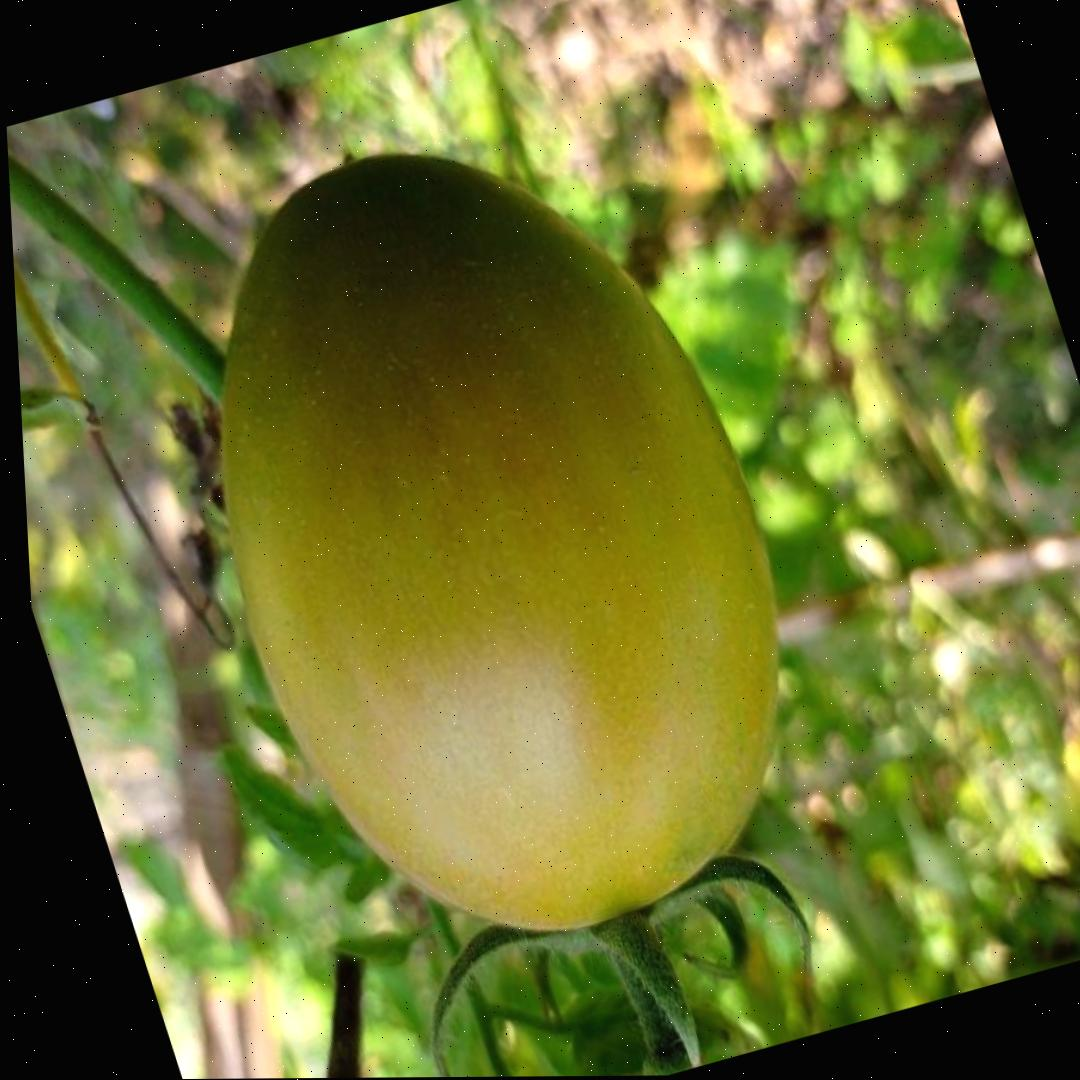setengah_matang: (111, 82, 879, 1004)
